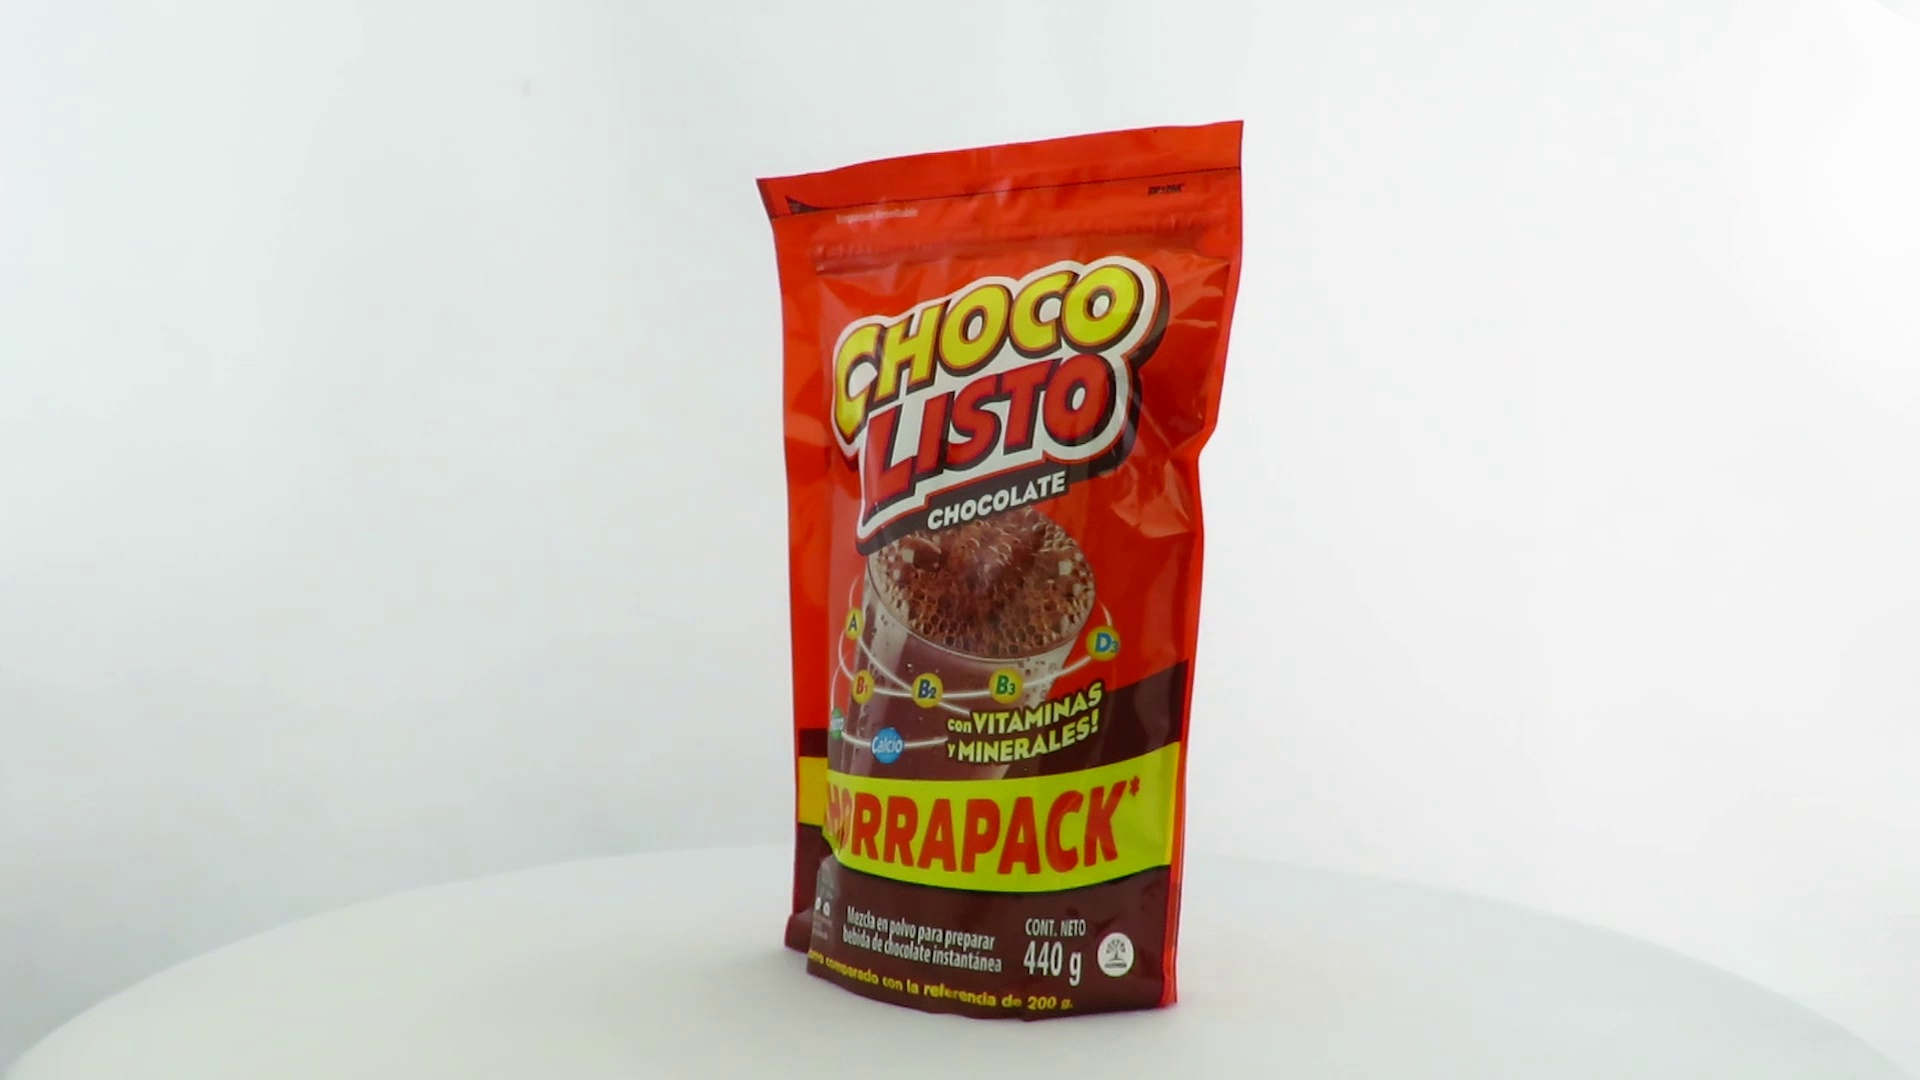COL0170103DYP44000: (752, 115, 1250, 1029)
